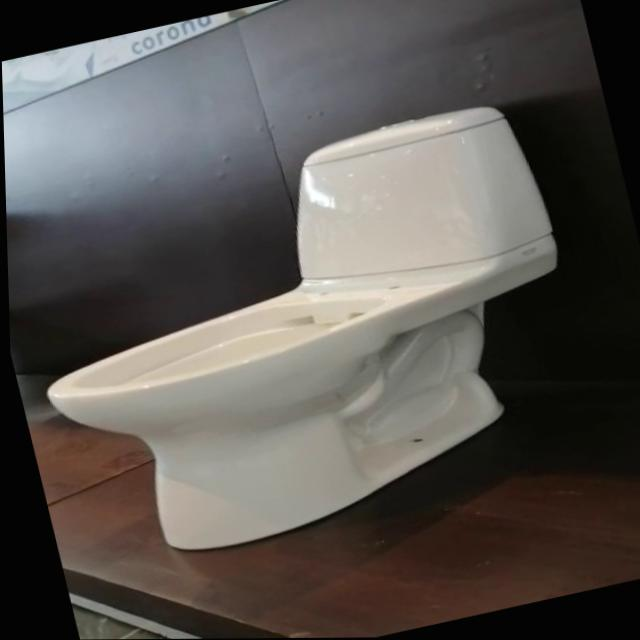toilet: (2, 94, 609, 578)
